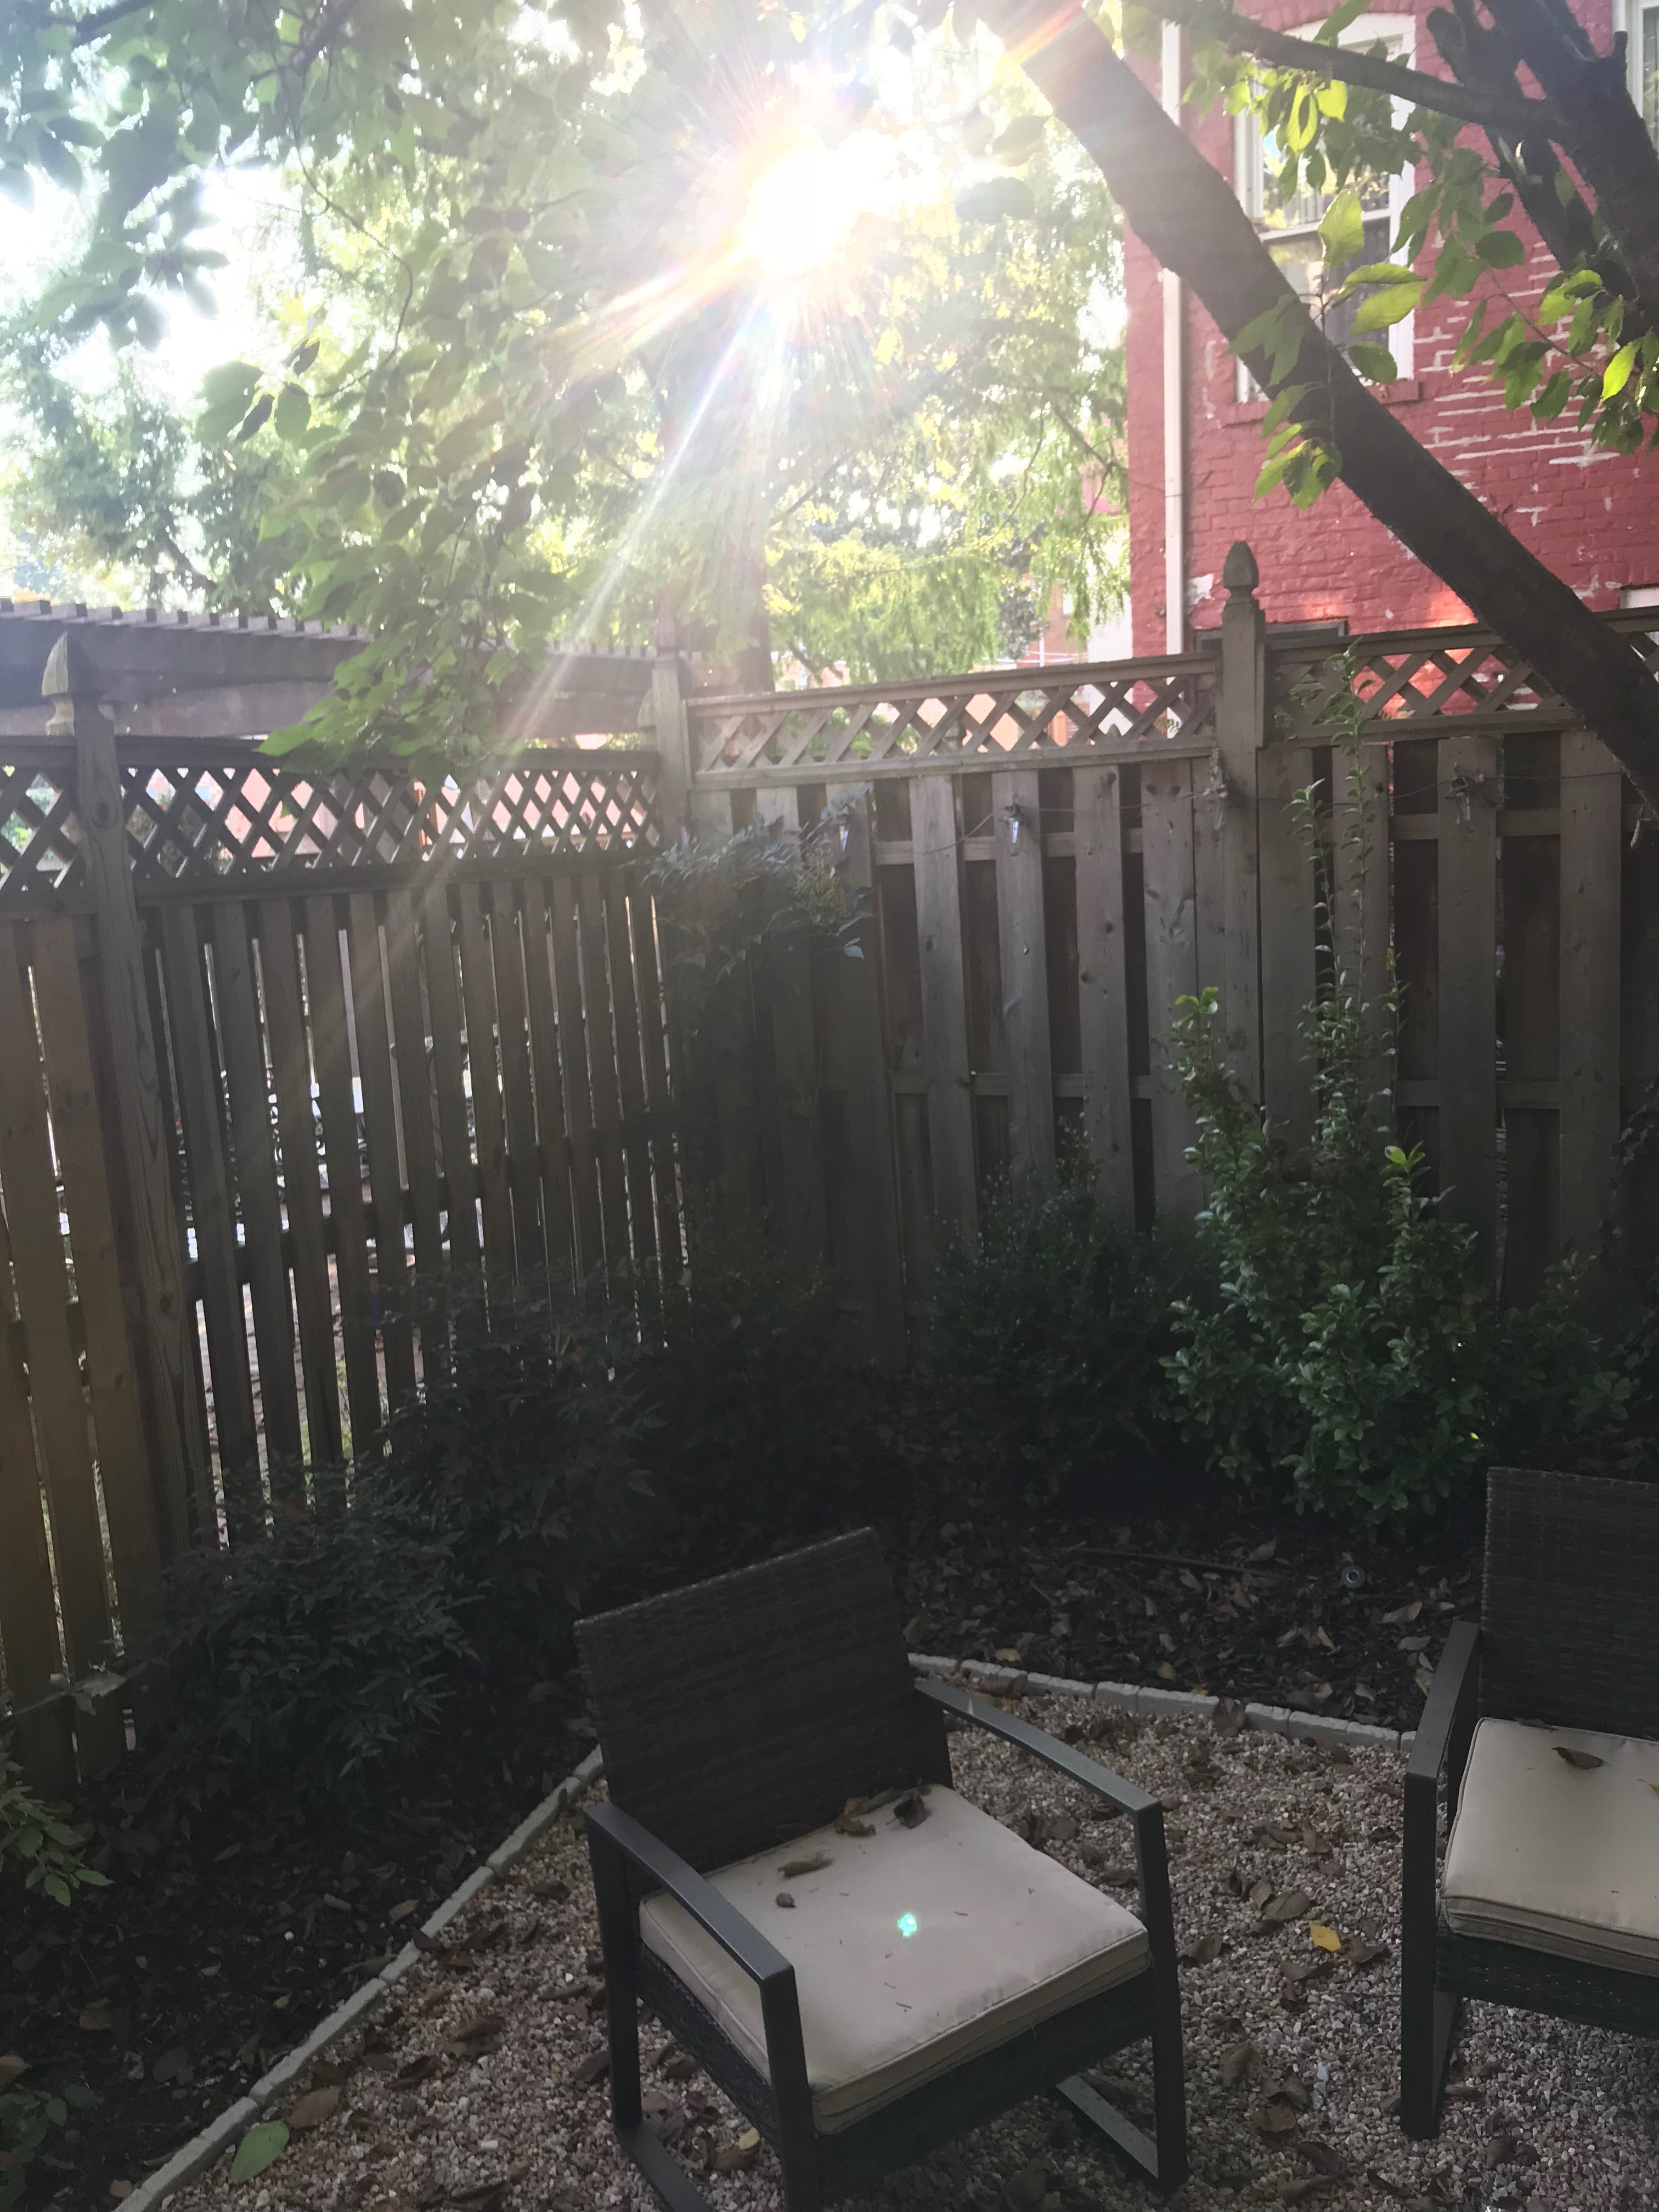flare: (894, 1909, 922, 1939)
